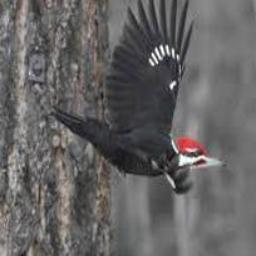Woodpecker: (49, 0, 227, 193)
